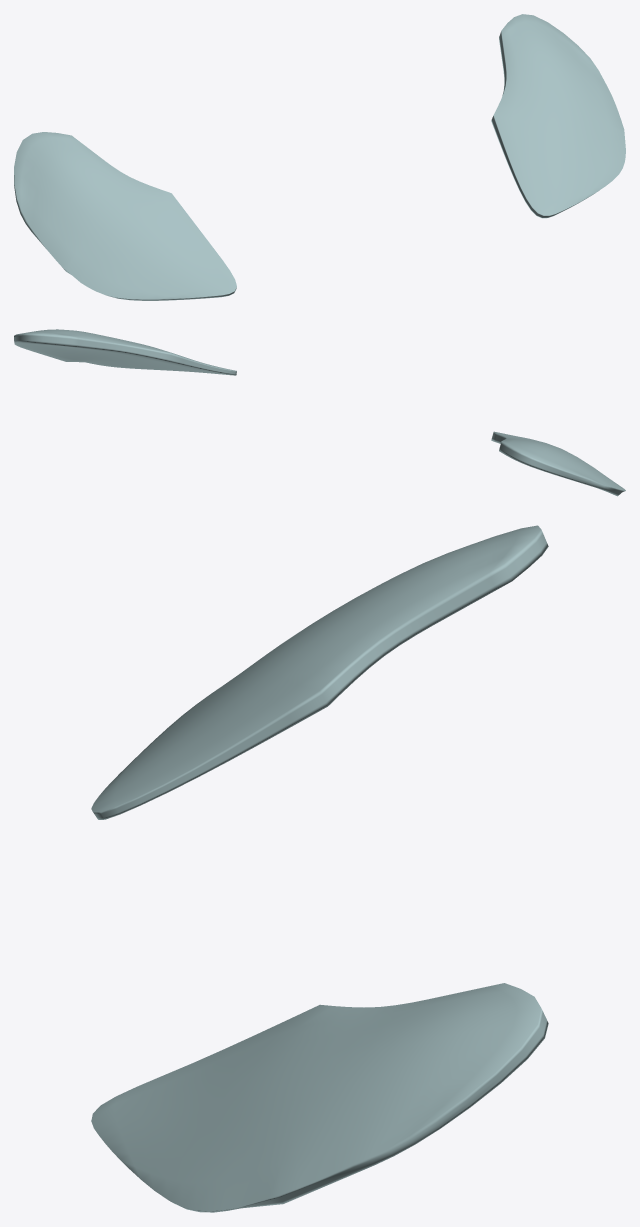
Rendered from PorscheFrontHeadlights.obj.
3 renders of one model, top to bottom at view 1: azimuth 30°, elevation 25°; view 2: azimuth 150°, elevation 25°; view 3: azimuth 270°, elevation 25°, orthographic. The views are drawn at different scales.
Visible parts, largest first — view 1: polySurface82; view 2: polySurface82; view 3: polySurface82.
Boxes of the visible parts, box(x1,y1,x2,y2) form: polySurface82: box(14, 14, 625, 300); polySurface82: box(14, 329, 625, 496); polySurface82: box(91, 525, 548, 1212).
Size of the model in its own units: 3.87 by 0.658 by 1.33.
